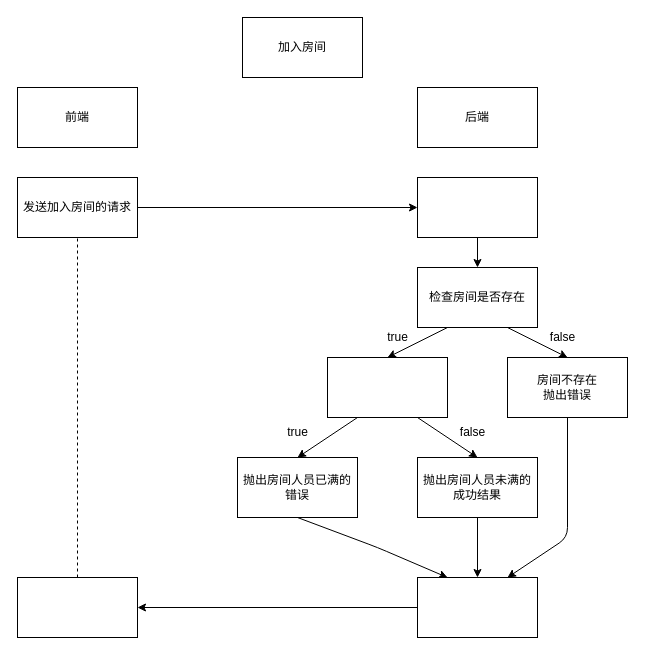
Some shapes in this 645 by 655 pixel diagram are drawn without their labels. Each missing label, with the centre of its shape:
"处理加入房间的请求" belongs at pixel 477 207.
"处理结果并返回" belongs at pixel 477 607.
"接收结果并响应" belongs at pixel 77 607.
"查询房间人员 是否已满" belongs at pixel 387 387.
